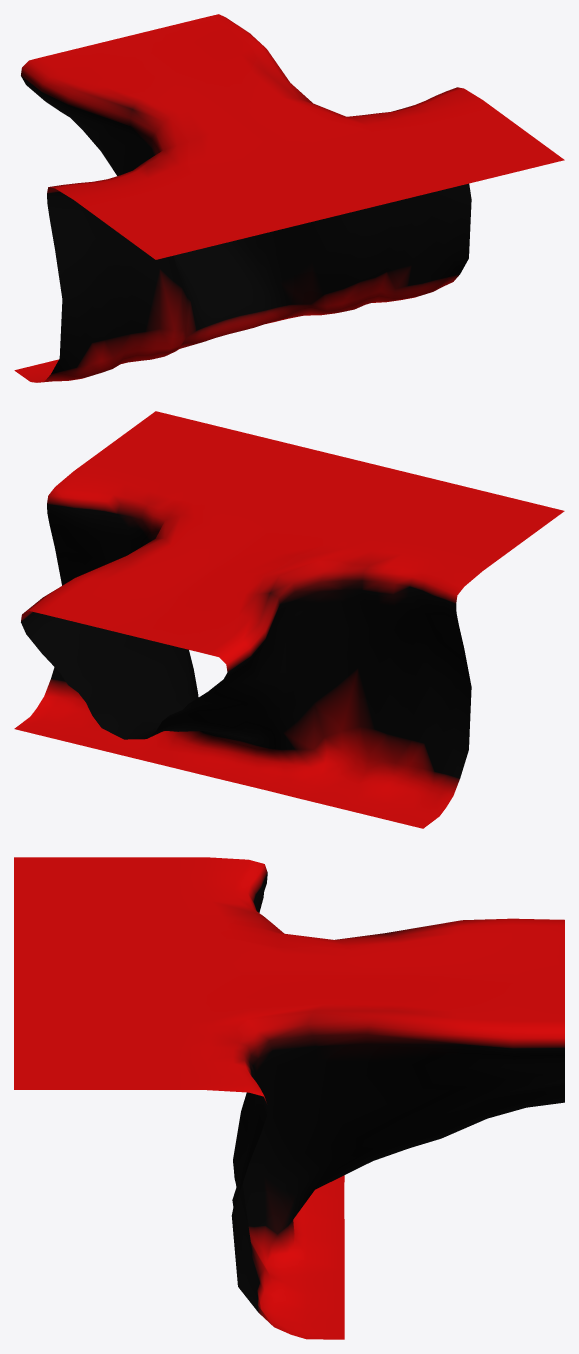
File: CrossingCliff02B 1M Foreground.fbx
3 views of the same model, one above another, from view 1: azimuth 30°, elevation 25°; view 2: azimuth 150°, elevation 25°; view 3: azimuth 270°, elevation 25° (orthographic). The views are drawn at different scales.
Visible parts, largest first — view 1: CrossingCliff02B 1M Foreground; view 2: CrossingCliff02B 1M Foreground; view 3: CrossingCliff02B 1M Foreground.
Boxes of the visible parts, box(x1,y1,x2,y2) form: CrossingCliff02B 1M Foreground: box(14, 14, 564, 382); CrossingCliff02B 1M Foreground: box(14, 411, 564, 828); CrossingCliff02B 1M Foreground: box(14, 857, 564, 1339).
Size of the model in its own units: 2 by 1.01 by 2.
